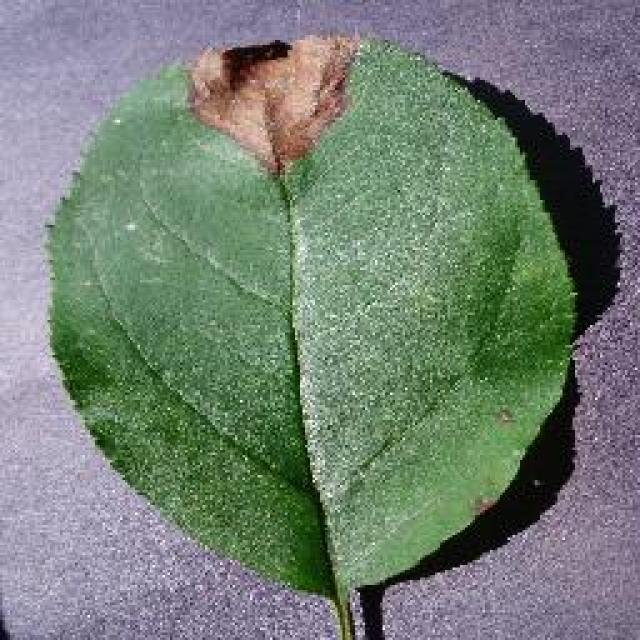apple black rot: (38, 30, 612, 638)
